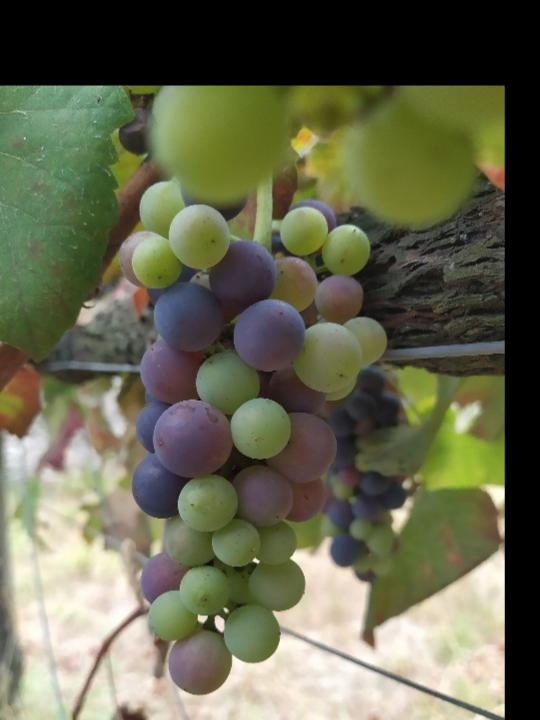grape: (116, 166, 390, 698)
